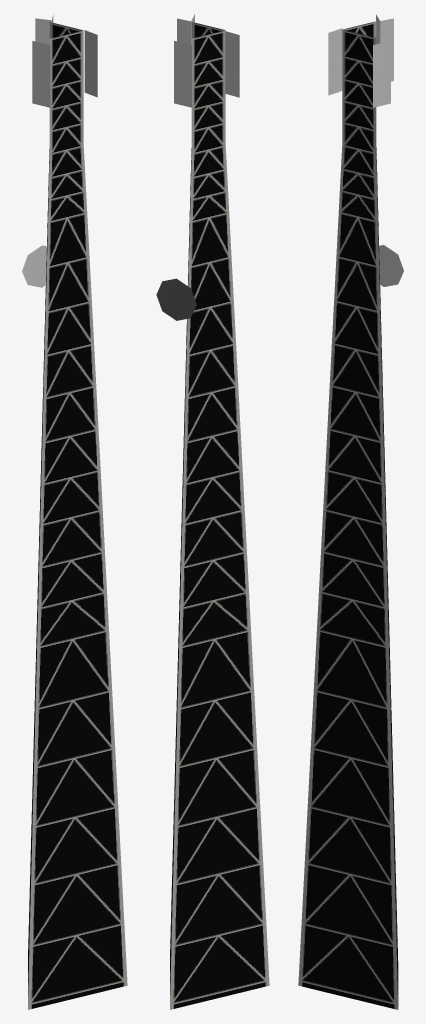
File: tower-radio-70m-cbj_LOD02.gltf
3 views of the same model, side by side, from view 1: azimuth 30°, elevation 25°; view 2: azimuth 150°, elevation 25°; view 3: azimuth 330°, elevation 25° (orthographic).
Visible parts, largest first — view 1: post02; view 2: post02; view 3: post02.
Boxes of the visible parts, x1,y1,x2,y2 form: post02: (22,14,127,1009); post02: (156,14,269,1009); post02: (298,14,403,1009).
Size of the model in its own units: 7.65 by 70.02 by 6.63.
